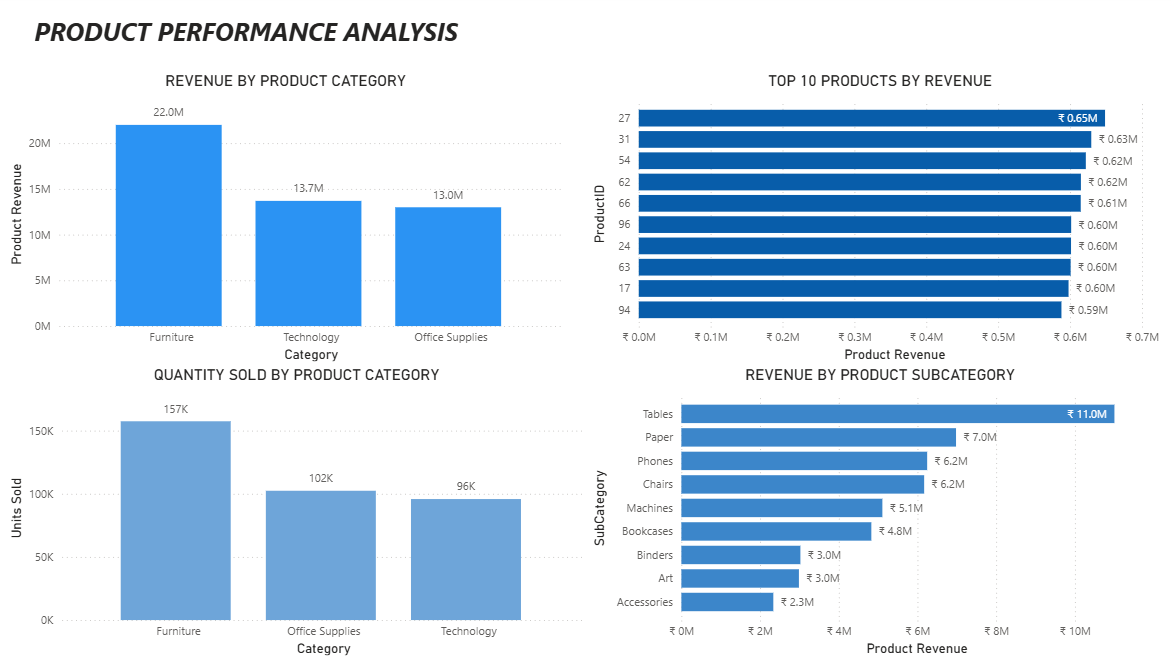

Layout of this report page (visuals, bound fields, positions):
{"tool":"powerbi","page":{"name":"Product Performance","canvas":[1280,720],"ordinal":1},"visuals":[{"type":"clusteredColumnChart","title":"REVENUE BY PRODUCT CATEGORY","fields":{"Y":["vw_product_performance.Product Revenue"],"Category":["vw_product_performance.Category"]},"box":[10,84,608,318],"z":0},{"type":"clusteredColumnChart","title":"QUANTITY SOLD BY PRODUCT CATEGORY","fields":{"Category":["vw_product_performance.Category"],"Y":["Sum(vw_product_performance.total_quantity_sold)"]},"box":[10,402,632,318],"z":1000},{"type":"clusteredBarChart","title":"TOP 10 PRODUCTS BY REVENUE","fields":{"Y":["vw_product_performance.Product Revenue"],"Category":["vw_product_performance.ProductID"]},"box":[640,84,632,318],"z":2000},{"type":"clusteredBarChart","title":"REVENUE BY PRODUCT SUBCATEGORY","fields":{"Category":["vw_product_performance.SubCategory"],"Y":["vw_product_performance.Product Revenue"]},"box":[640,402,632,318],"z":3000},{"type":"textbox","box":[38,0,634,66],"z":4000}]}

Visuals, with their boxes in screenshot pixels (x1, y1, x2, y2), scaled from the page's 1280x720 canvas onto the 1171x658 screenshot:
"REVENUE BY PRODUCT CATEGORY" clusteredColumnChart: {"left": 9, "top": 77, "right": 565, "bottom": 367}
"QUANTITY SOLD BY PRODUCT CATEGORY" clusteredColumnChart: {"left": 9, "top": 367, "right": 587, "bottom": 657}
"TOP 10 PRODUCTS BY REVENUE" clusteredBarChart: {"left": 586, "top": 77, "right": 1164, "bottom": 367}
"REVENUE BY PRODUCT SUBCATEGORY" clusteredBarChart: {"left": 586, "top": 367, "right": 1164, "bottom": 657}
textbox: {"left": 35, "top": 0, "right": 615, "bottom": 60}
